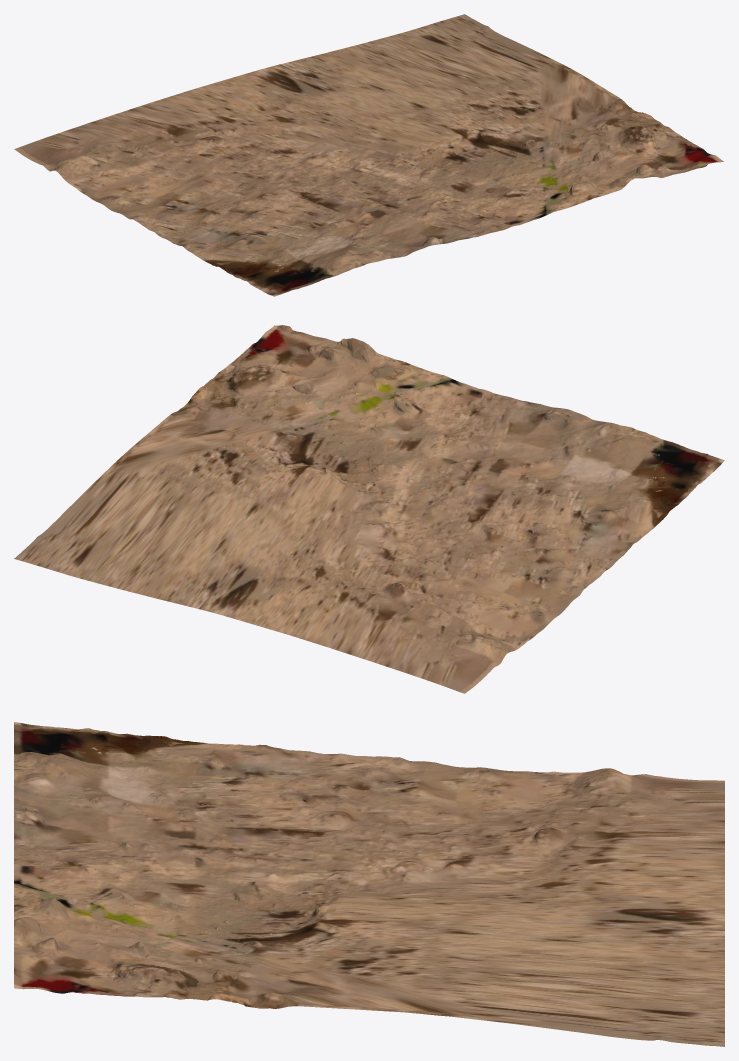
3 renders of one model, top to bottom at view 1: azimuth 30°, elevation 25°; view 2: azimuth 150°, elevation 25°; view 3: azimuth 270°, elevation 25°, orthographic. The views are drawn at different scales.
Size of the model in its own units: 8.36 by 1.32 by 8.36.
Materials: 2 (2 with a texture image).
